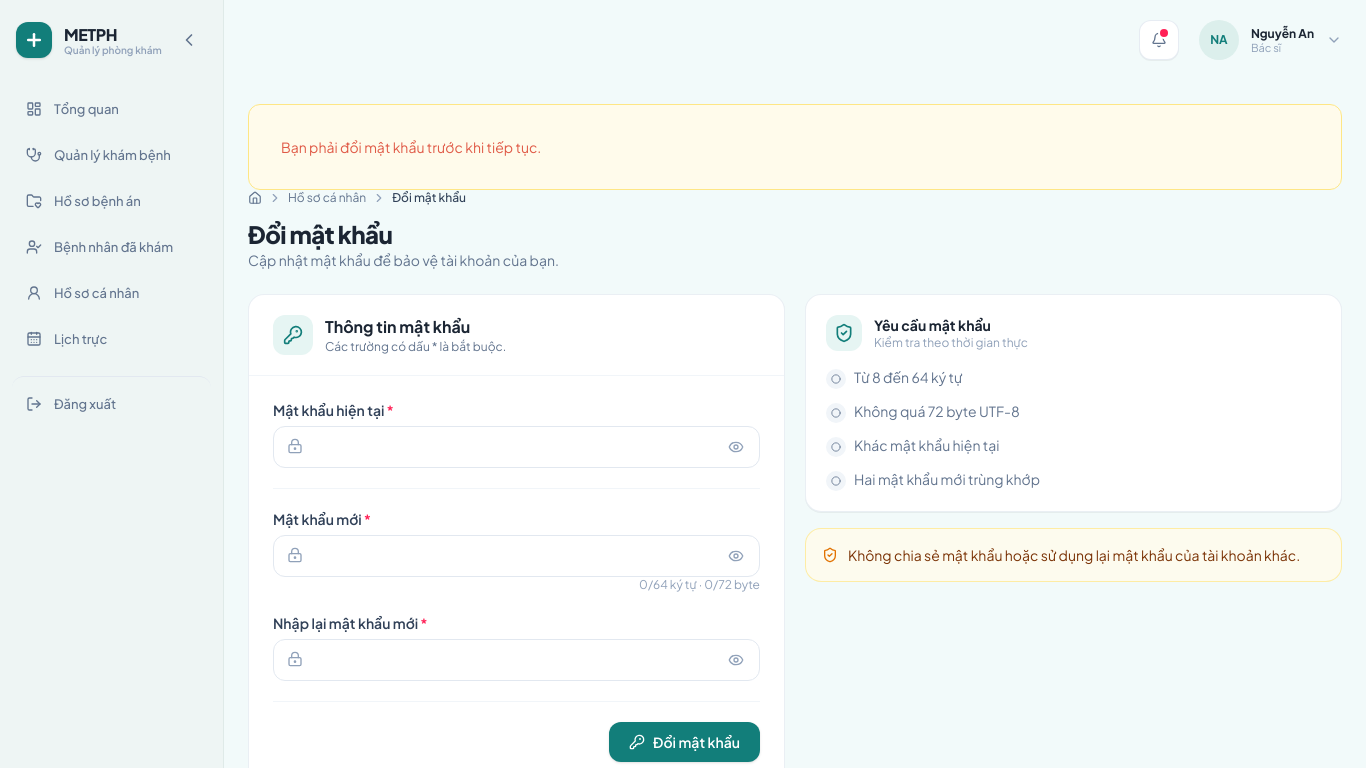
Scenario: App › forces a password change first and drops the restriction afterwards
Check: the message reads "Bạn phải đổi mật khẩu trước khi tiếp tục.", box [281,138,541,156]
Check: the heading "Đổi mật khẩu" is shown, box [248,219,392,249]
In the password field labelled "Mật khẩu hiện tại": (516, 447) [273,426,760,468], type "temporary-pass"
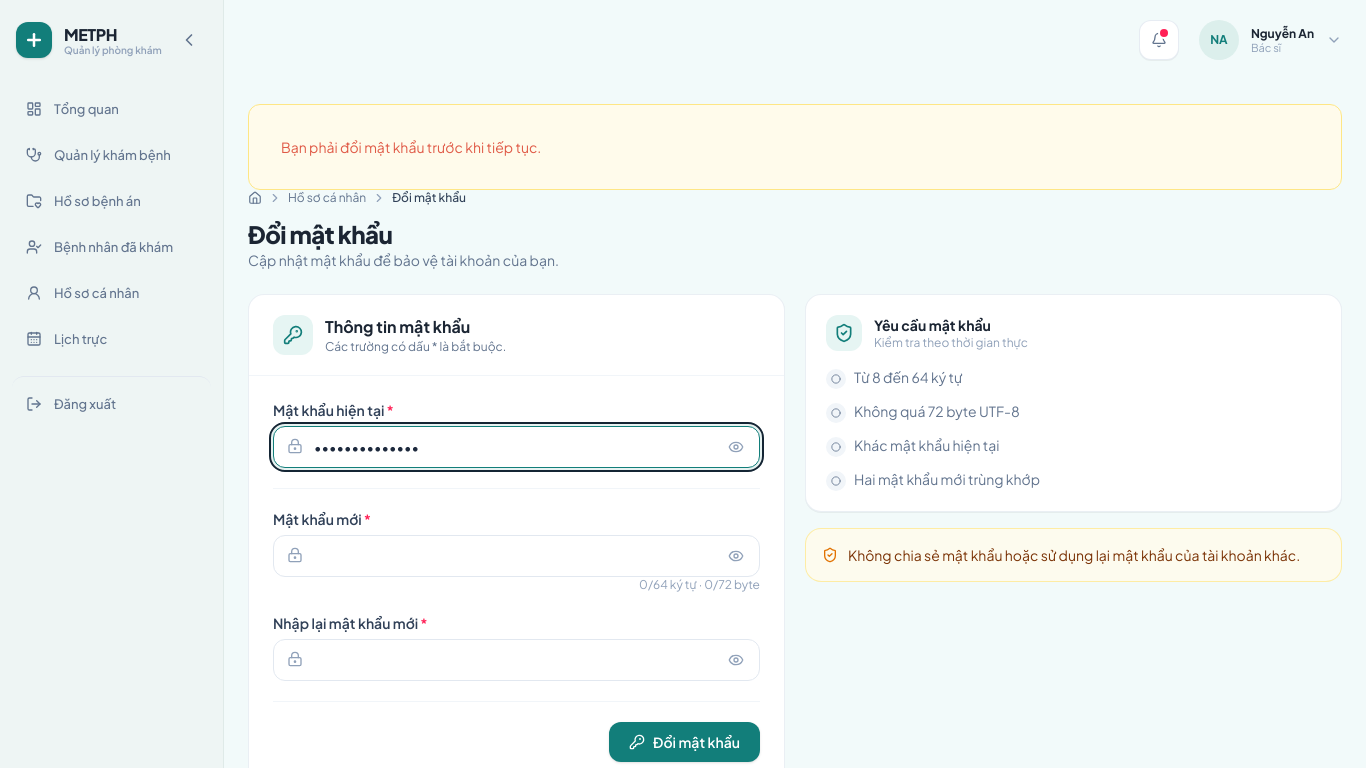
In the password field labelled "Mật khẩu mới": (516, 556) [273,535,760,577], type "brand-new-password"
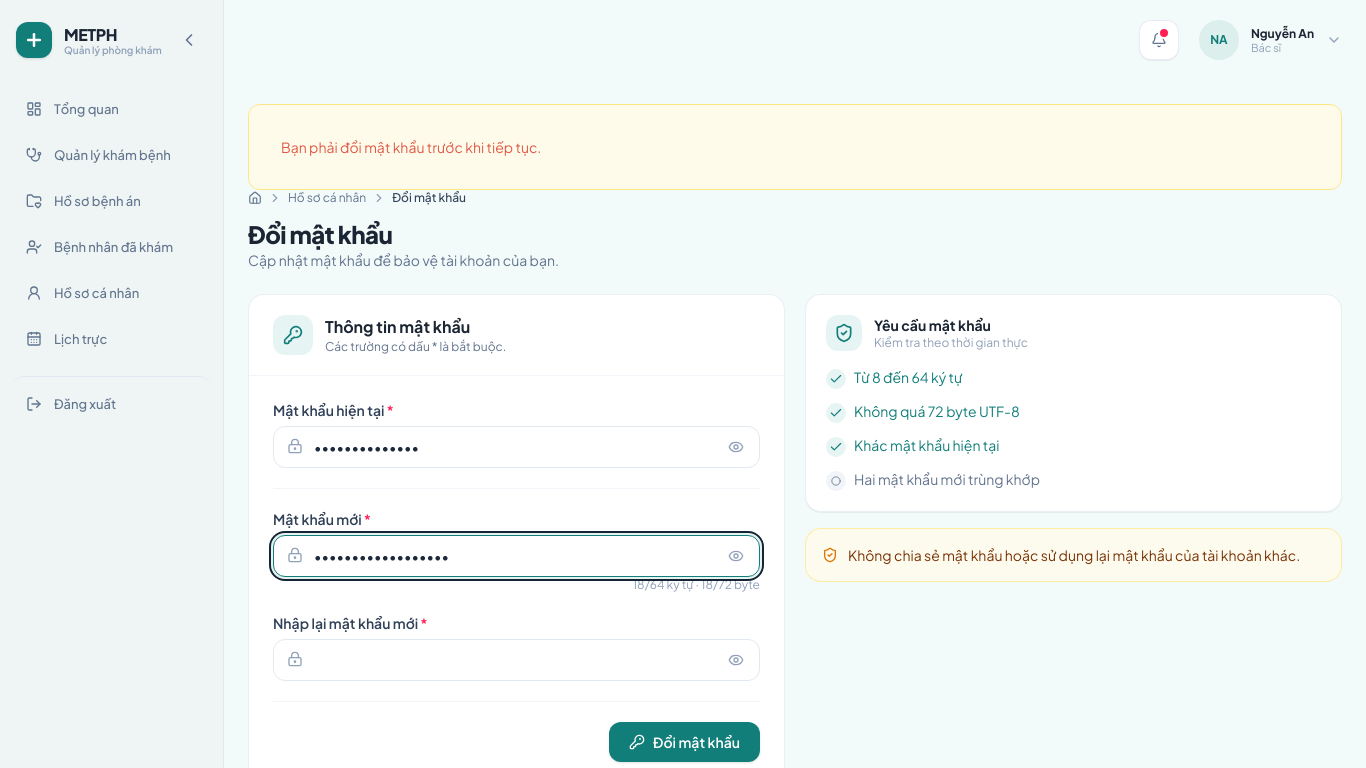
In the password field labelled "Nhập lại mật khẩu mới": (516, 660) [273,639,760,681], type "brand-new-password"
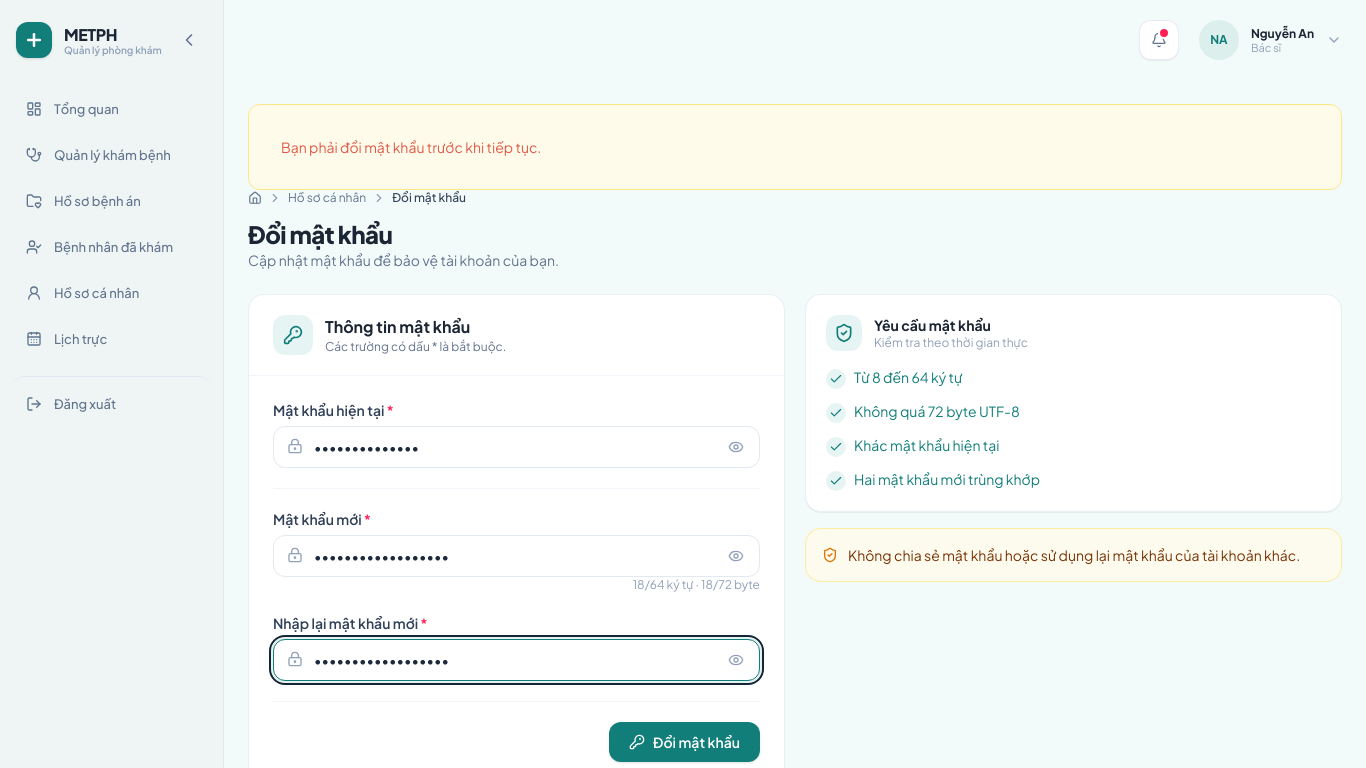
Click the button "Đổi mật khẩu": (685, 742) [609,722,760,762]
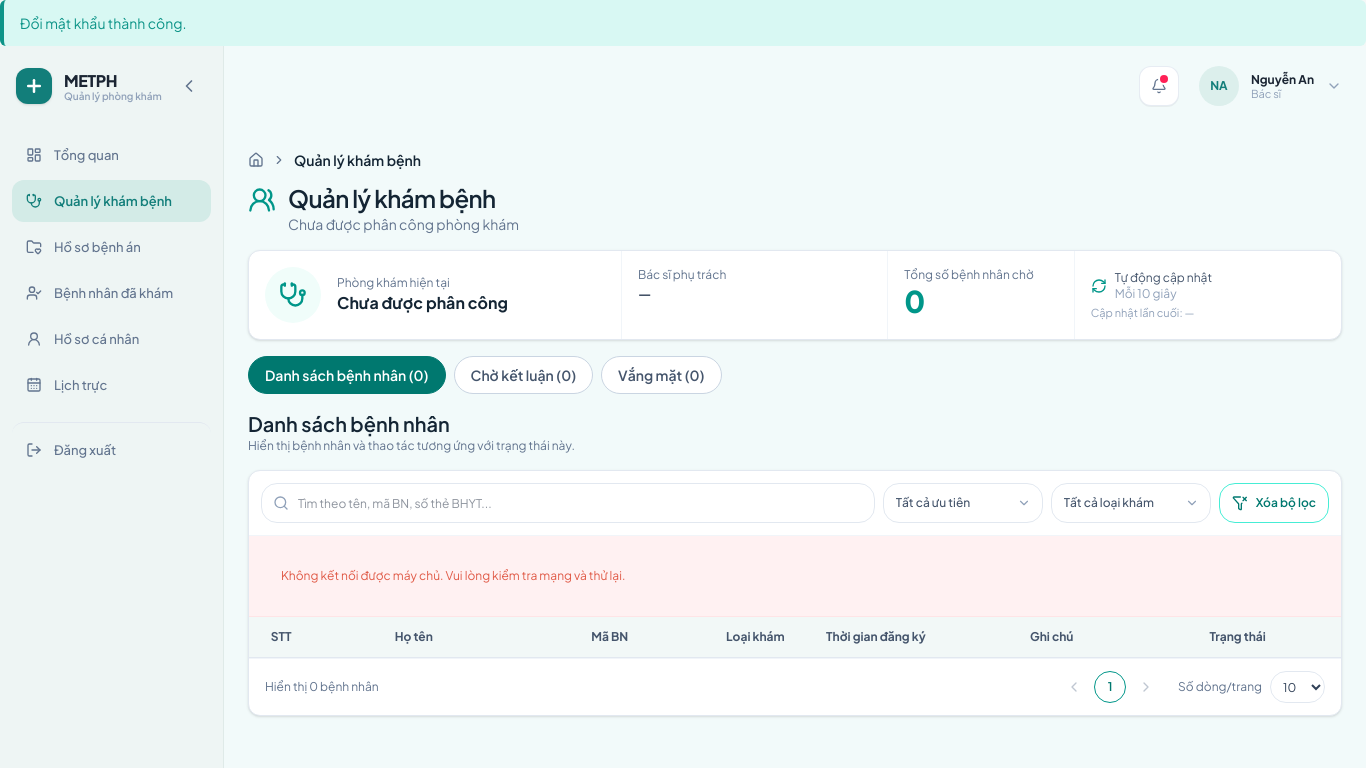
Check: the message "Đổi mật khẩu thành công." is shown, box [0,0,1365,46]
